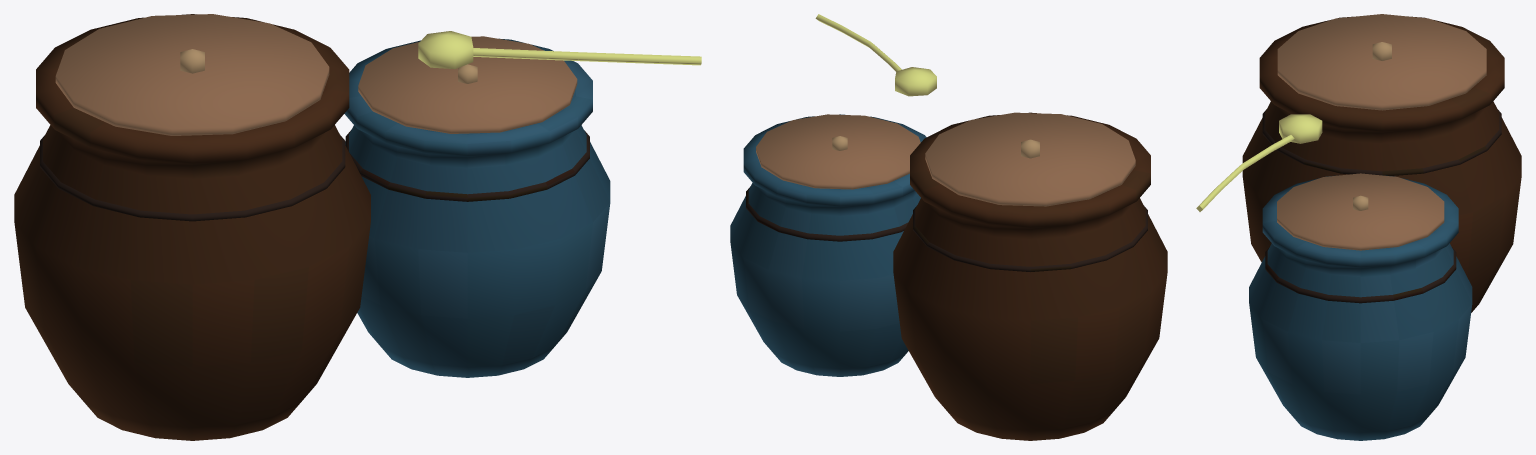
The model's file is prop_tc_lu_nuoc_2.d3fcd56b82.glb.
The picture shows the model from 3 angles, left to right: view 1: azimuth 30°, elevation 25°; view 2: azimuth 150°, elevation 25°; view 3: azimuth 270°, elevation 25°; orthographic projection. The views are drawn at different scales.
Visible parts, largest first — view 1: prop_tc_lu_nuoc_2; view 2: prop_tc_lu_nuoc_2; view 3: prop_tc_lu_nuoc_2.
Part boxes in pixels (x1=…): prop_tc_lu_nuoc_2: x1=14, y1=14, x2=701, y2=440; prop_tc_lu_nuoc_2: x1=730, y1=14, x2=1167, y2=440; prop_tc_lu_nuoc_2: x1=1196, y1=14, x2=1521, y2=440.
Size of what is drawn, in the model's own units: 2.32 by 1.4 by 1.52.
